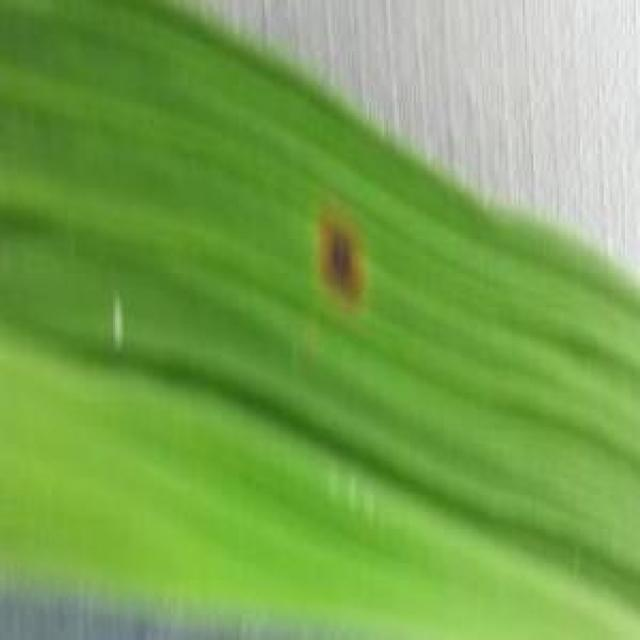Brown_Spot: (299, 212, 376, 316)
